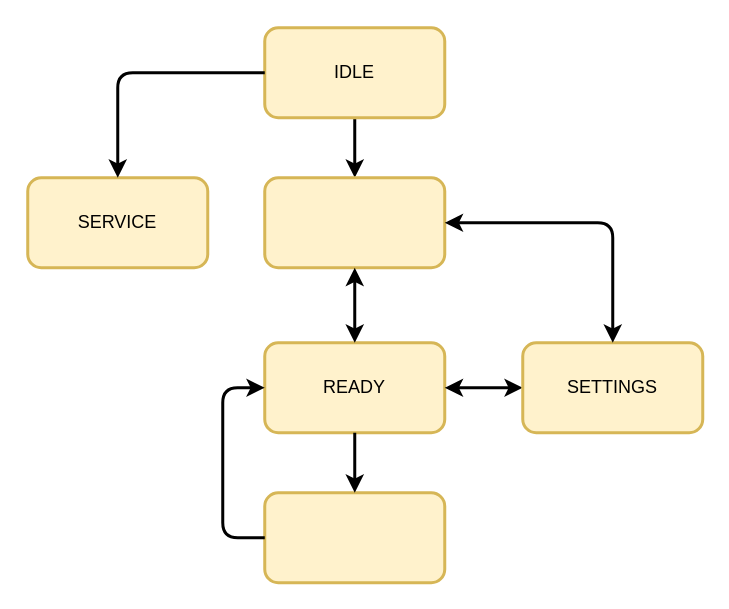
The diagram is 729 pixels wide and 609 high, and some of its shapes have lost their labels. Each missing label, with the centre of its shape:
FREEZING: [354,537]
STANDBY: [354,222]
